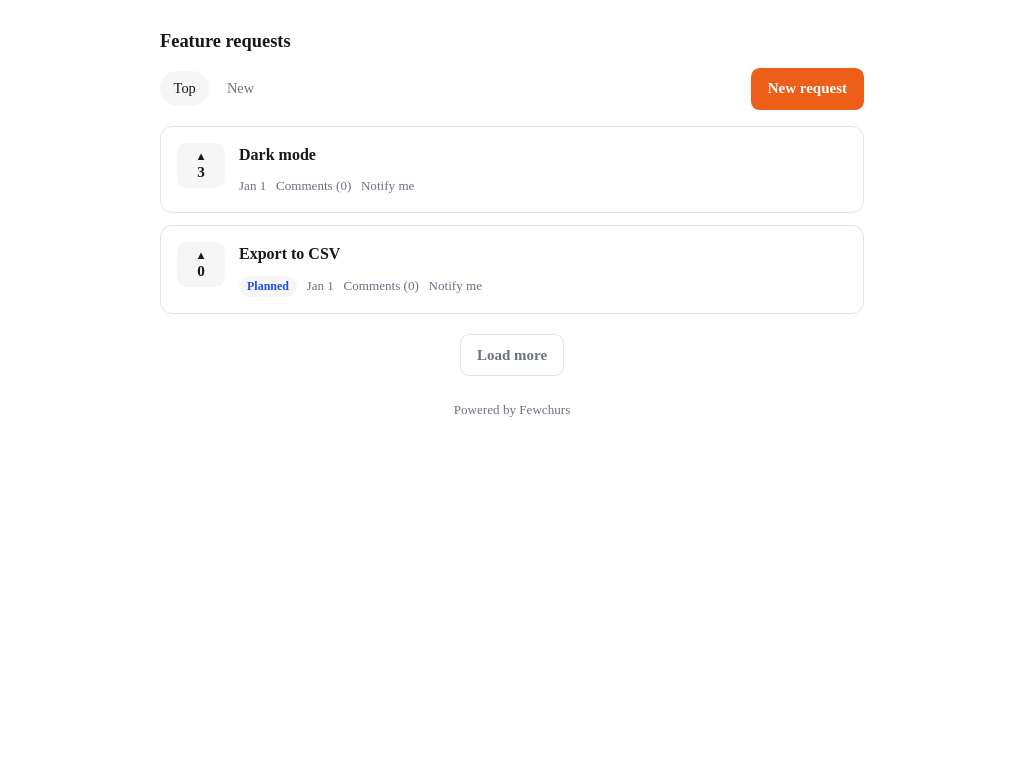
Test case: board › submits a request and reports it
Click the button "New request" at coordinates (807, 89), box left=751, top=68, right=864, bottom=110
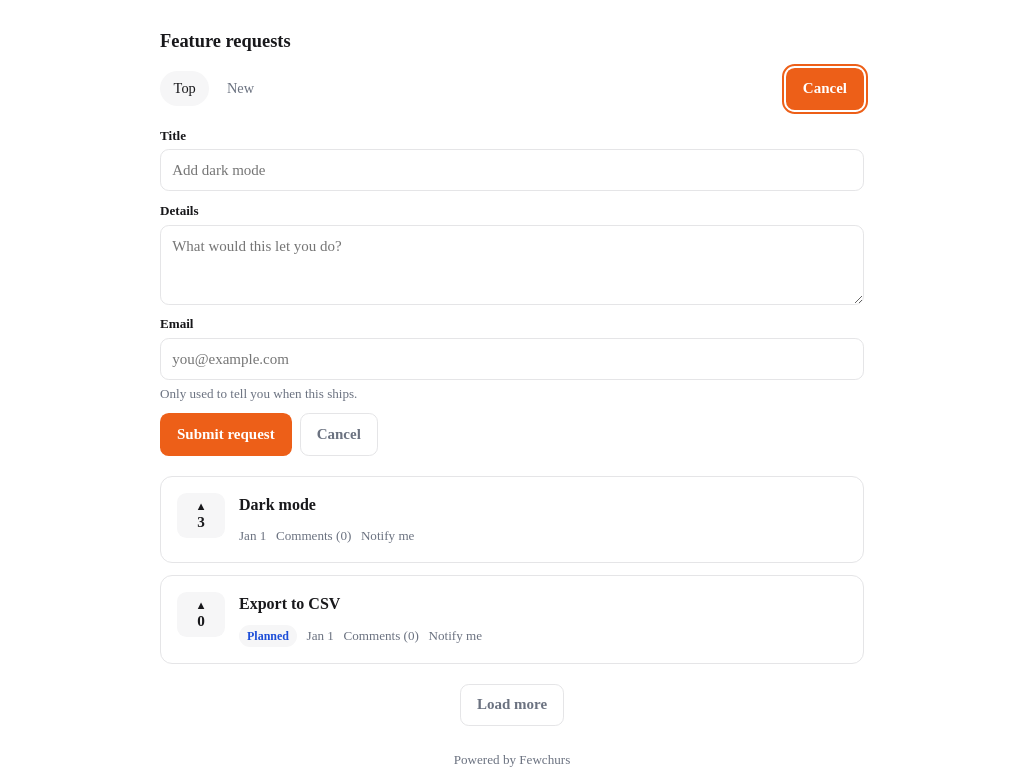
Type "Offline mode" into the field labelled "Title" at coordinates (512, 170), box left=160, top=149, right=864, bottom=192
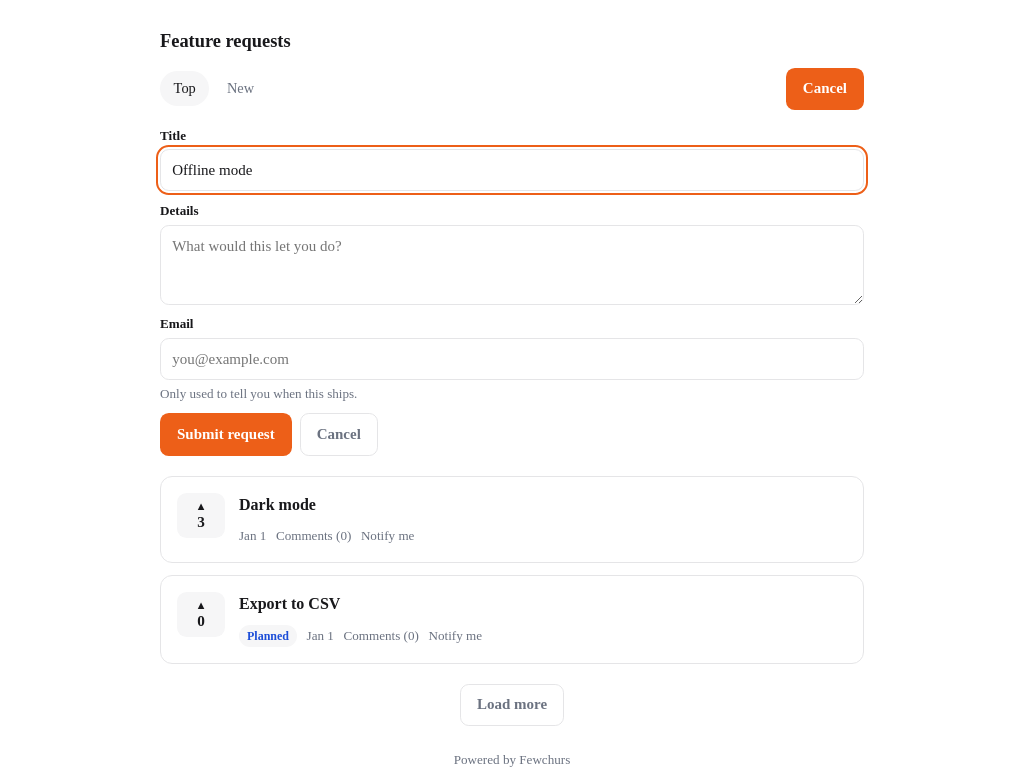
Click the button "Submit request" at coordinates (226, 434), box left=160, top=413, right=292, bottom=456
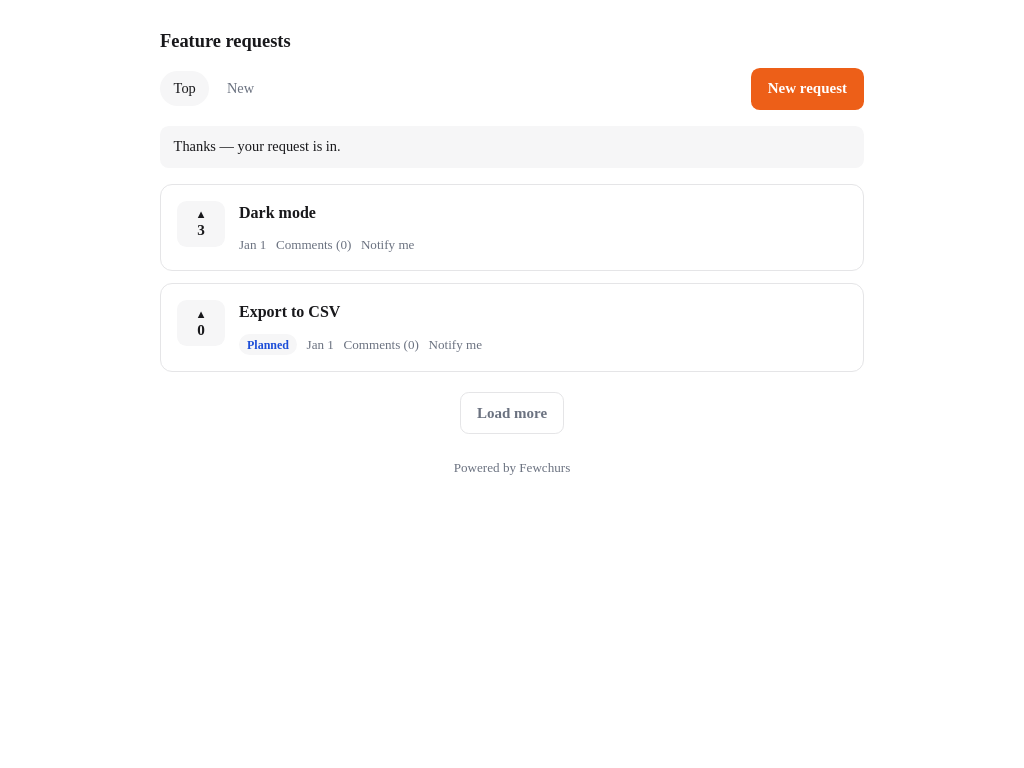
Expected: the text "Thanks — your request is in." is shown, left=160, top=126, right=864, bottom=168
